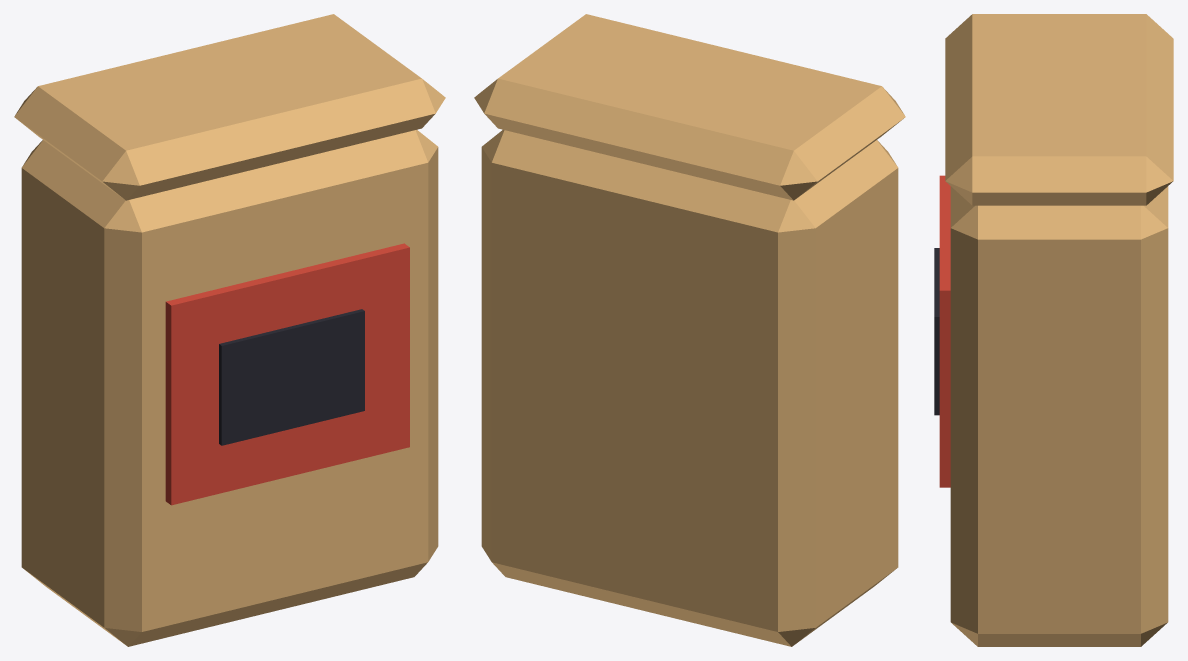
Rendered from CatCafe_Item_Kibble.glb.
The picture shows the model from 3 angles, left to right: view 1: azimuth 30°, elevation 25°; view 2: azimuth 150°, elevation 25°; view 3: azimuth 270°, elevation 25°; orthographic projection.
Visible parts, largest first — view 1: CatCafe_Item_Kibble; view 2: CatCafe_Item_Kibble; view 3: CatCafe_Item_Kibble.
Part boxes in pixels (left/top/right/bottom): CatCafe_Item_Kibble: left=14, top=14, right=445, bottom=646; CatCafe_Item_Kibble: left=474, top=14, right=905, bottom=646; CatCafe_Item_Kibble: left=934, top=14, right=1173, bottom=646.
Size of the model in its own units: 0.72 by 1 by 0.44.
1 material, 1 textured.
